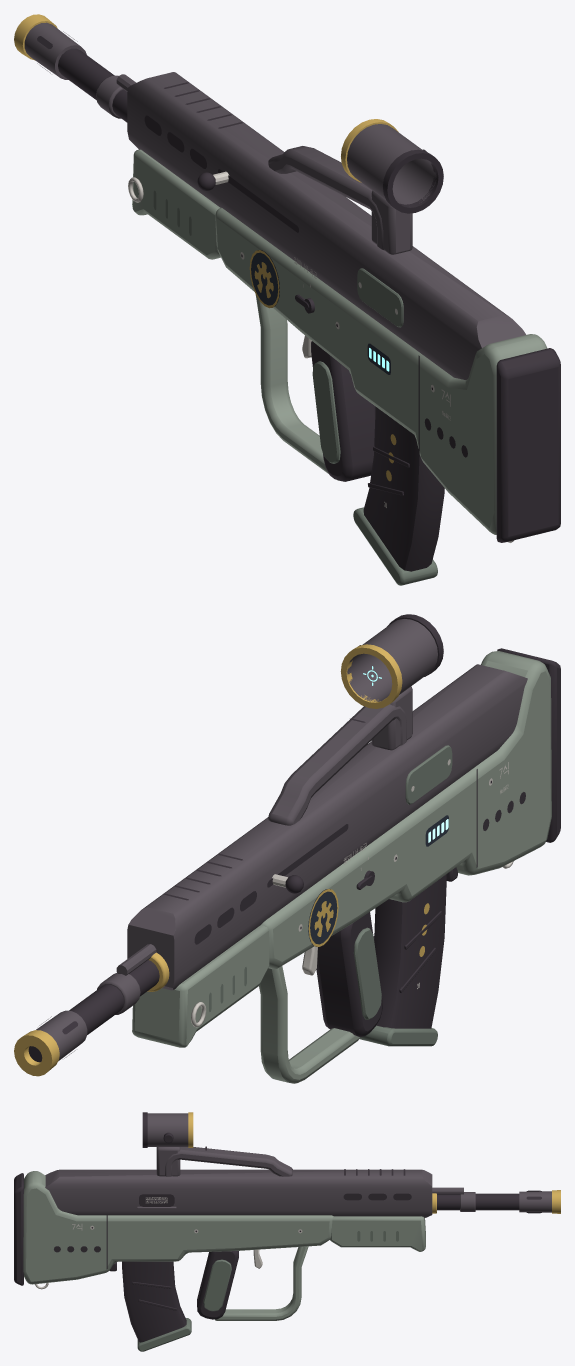
File: elfinia_rifle.glb
3 views of the same model, one above another, from view 1: azimuth 30°, elevation 25°; view 2: azimuth 150°, elevation 25°; view 3: azimuth 270°, elevation 25° (orthographic). The views are drawn at different scales.
Visible parts, largest first — view 1: body, mag, body_fine; view 2: body, mag, body_fine; view 3: body, mag, body_fine.
Boxes of the visible parts, x1,y1,x2,y2 form: body: (14, 14, 560, 542); mag: (353, 406, 444, 585); body_fine: (37, 31, 467, 457); body: (14, 614, 560, 1083); mag: (359, 874, 446, 1046); body_fine: (39, 666, 525, 1058); body: (14, 1112, 560, 1320); mag: (122, 1261, 191, 1351); body_fine: (54, 1146, 541, 1268).
Size of the model in its own units: 0.0547 by 0.2602 by 0.552.
